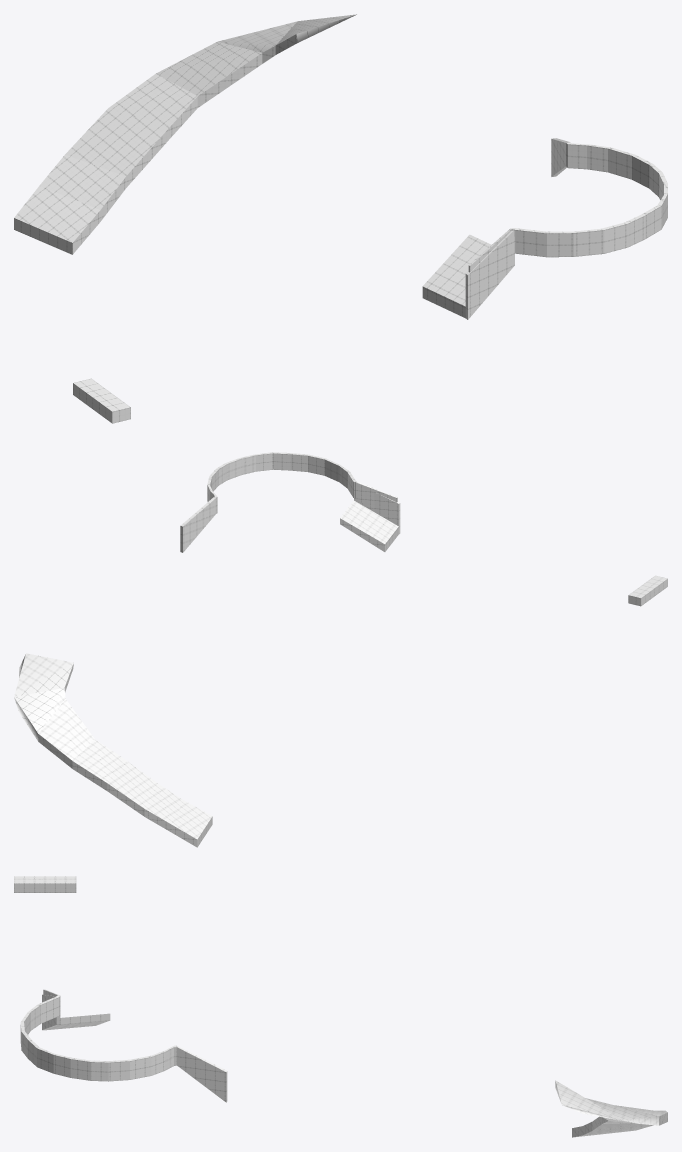
The model's file is Colliders.fbx.
The picture shows the model from 3 angles, top to bottom: view 1: azimuth 30°, elevation 25°; view 2: azimuth 150°, elevation 25°; view 3: azimuth 270°, elevation 25°; orthographic projection. The views are drawn at different scales.
Parts seen in each view (by area): view 1: StairsCurled, Centre_backfence, stairs (1), Cube; view 2: StairsCurled, Centre_backfence, stairs (1), Cube; view 3: Centre_backfence, StairsCurled, Cube, stairs (1).
Part boxes in pixels (x1=…): StairsCurled: x1=14, y1=14, x2=356, y2=254; Centre_backfence: x1=468, y1=138, x2=667, y2=272; stairs (1): x1=422, y1=230, x2=514, y2=319; Cube: x1=73, y1=378, x2=130, y2=423; StairsCurled: x1=14, y1=653, x2=212, y2=847; Centre_backfence: x1=180, y1=452, x2=397, y2=552; stairs (1): x1=340, y1=482, x2=400, y2=551; Cube: x1=628, y1=575, x2=667, y2=606; Centre_backfence: x1=20, y1=989, x2=227, y2=1102; StairsCurled: x1=555, y1=1080, x2=667, y2=1137; Cube: x1=14, y1=876, x2=76, y2=892; stairs (1): x1=42, y1=994, x2=110, y2=1030.
Size of what is drawn, in the model's own units: 53.06 by 19.89 by 63.23.
